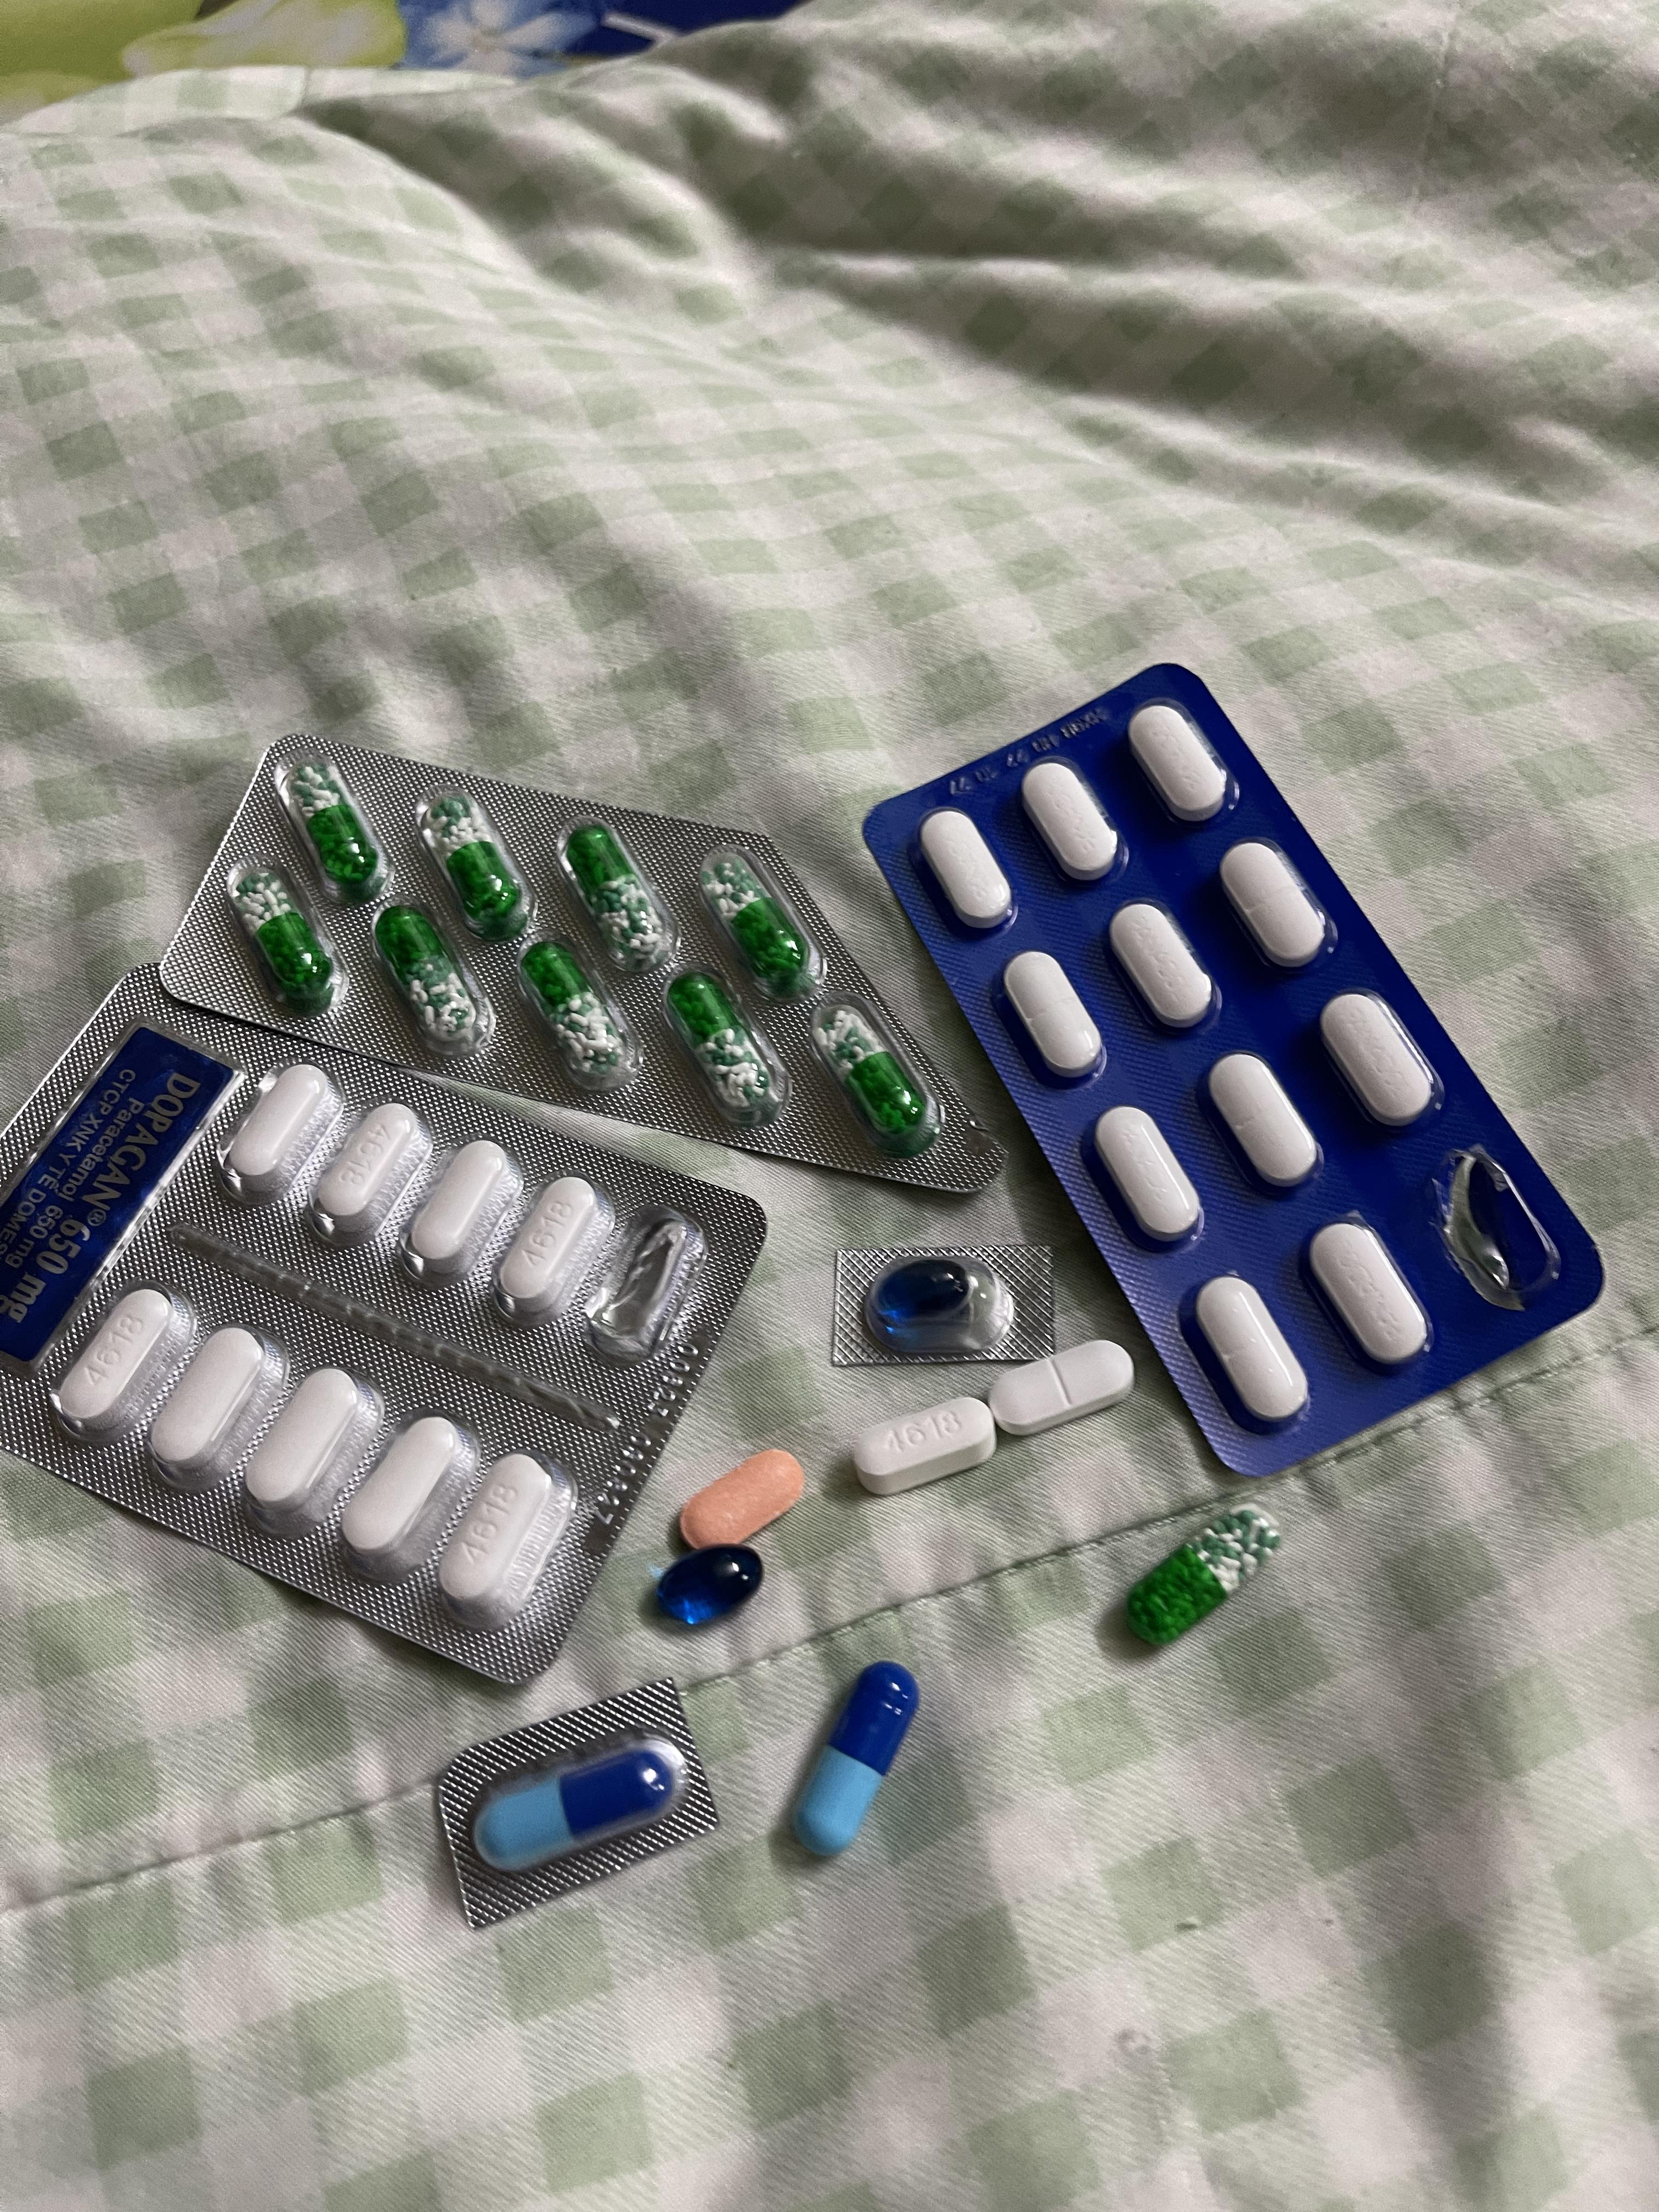Lincomyxin_500mg: (652, 1543, 767, 1627), (873, 1259, 974, 1322)
Loratadine_10mg: (678, 1451, 800, 1550)
Paracetamol_350mg: (1305, 1216, 1432, 1372), (1188, 1275, 1310, 1430), (1087, 1103, 1204, 1251), (1321, 991, 1441, 1130), (1206, 1050, 1323, 1193), (1218, 840, 1331, 972), (988, 1339, 1140, 1437), (1108, 899, 1220, 1031), (999, 951, 1105, 1087), (1127, 702, 1234, 826), (1021, 761, 1122, 885), (917, 806, 1016, 932)
Paracetamol_500mg: (439, 1453, 577, 1627), (51, 1284, 195, 1447), (239, 1366, 378, 1531), (148, 1322, 284, 1489), (340, 1414, 474, 1573), (399, 1137, 519, 1291), (310, 1101, 436, 1244), (221, 1064, 342, 1205), (493, 1177, 606, 1320), (850, 1400, 992, 1494)
Paracetamol_650mg: (660, 961, 791, 1134), (1124, 1507, 1277, 1644), (369, 899, 491, 1062), (561, 820, 667, 968), (519, 942, 631, 1082), (423, 794, 528, 937), (702, 855, 807, 996), (237, 869, 336, 1010), (286, 763, 382, 895), (816, 1007, 915, 1127)
pill: (476, 1740, 687, 1874), (791, 1656, 913, 1853)
